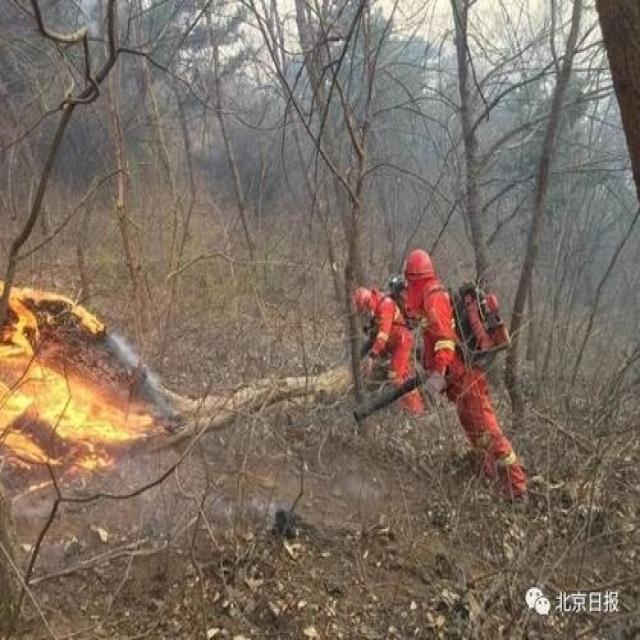Fire: (1, 283, 165, 497)
